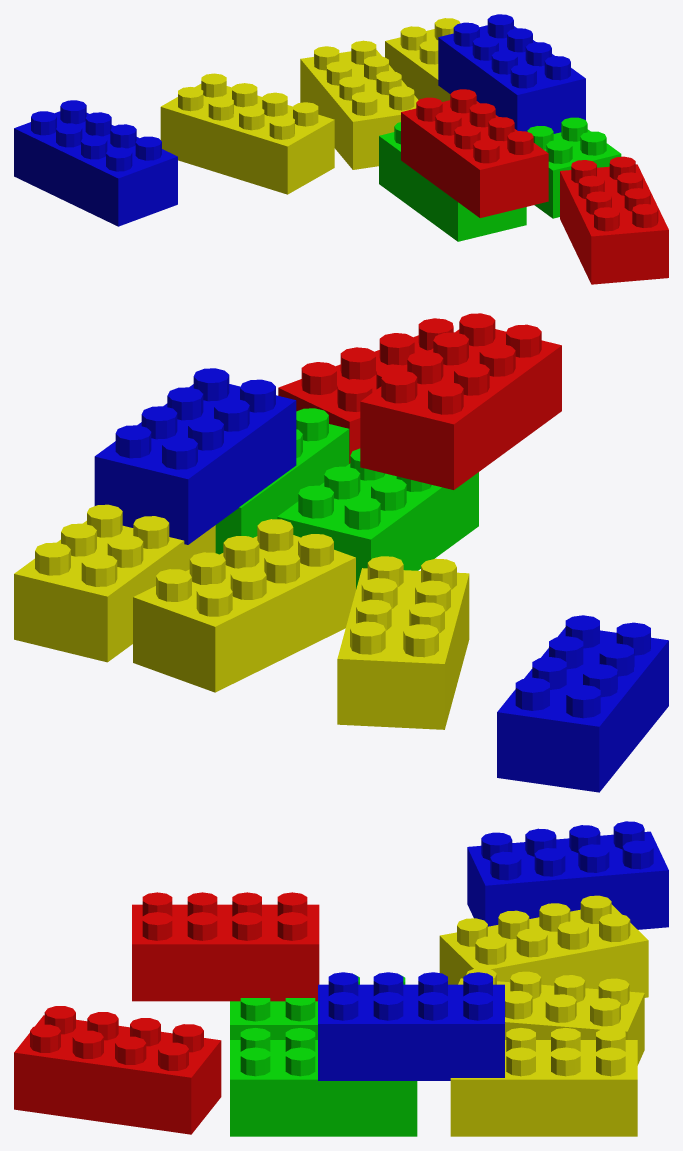
File: legoblokjes.fbx
The picture shows the model from 3 angles, top to bottom: view 1: azimuth 30°, elevation 25°; view 2: azimuth 150°, elevation 25°; view 3: azimuth 270°, elevation 25°; orthographic projection. The views are drawn at different scales.
Visible parts, largest first — view 1: lego:polySurface30; view 2: lego:polySurface30; view 3: lego:polySurface30.
Part boxes in pixels (x1,y1,x2,y2): lego:polySurface30: [14, 14, 668, 284]; lego:polySurface30: [14, 313, 668, 792]; lego:polySurface30: [14, 821, 668, 1136].
Size of the model in its own units: 10.91 by 2.89 by 12.06.
